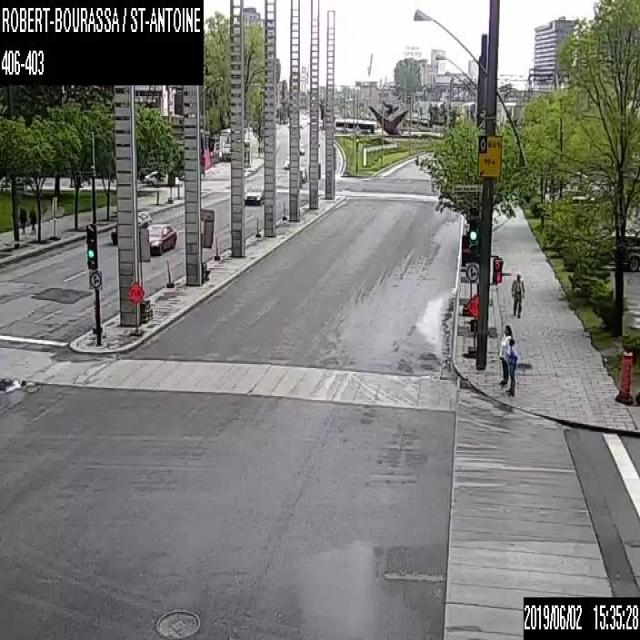bus: (334, 116, 376, 134)
construction: (138, 228, 152, 322), (200, 207, 214, 279), (127, 280, 145, 332), (616, 349, 632, 404), (466, 293, 479, 348)
pedestrian: (498, 324, 512, 384), (505, 338, 517, 398), (510, 272, 524, 319), (28, 206, 36, 233), (19, 207, 27, 234)
vehicle: (110, 210, 151, 243), (610, 229, 639, 271), (146, 223, 176, 255), (142, 168, 180, 187), (242, 184, 264, 205), (298, 165, 307, 180), (282, 155, 289, 168), (299, 142, 305, 154)
